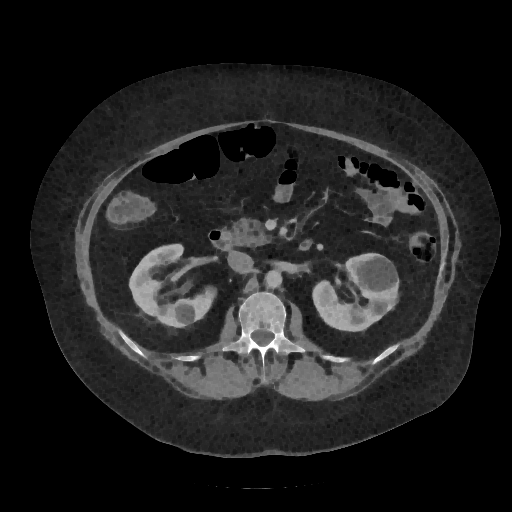Lesion: (355, 254, 399, 294)
